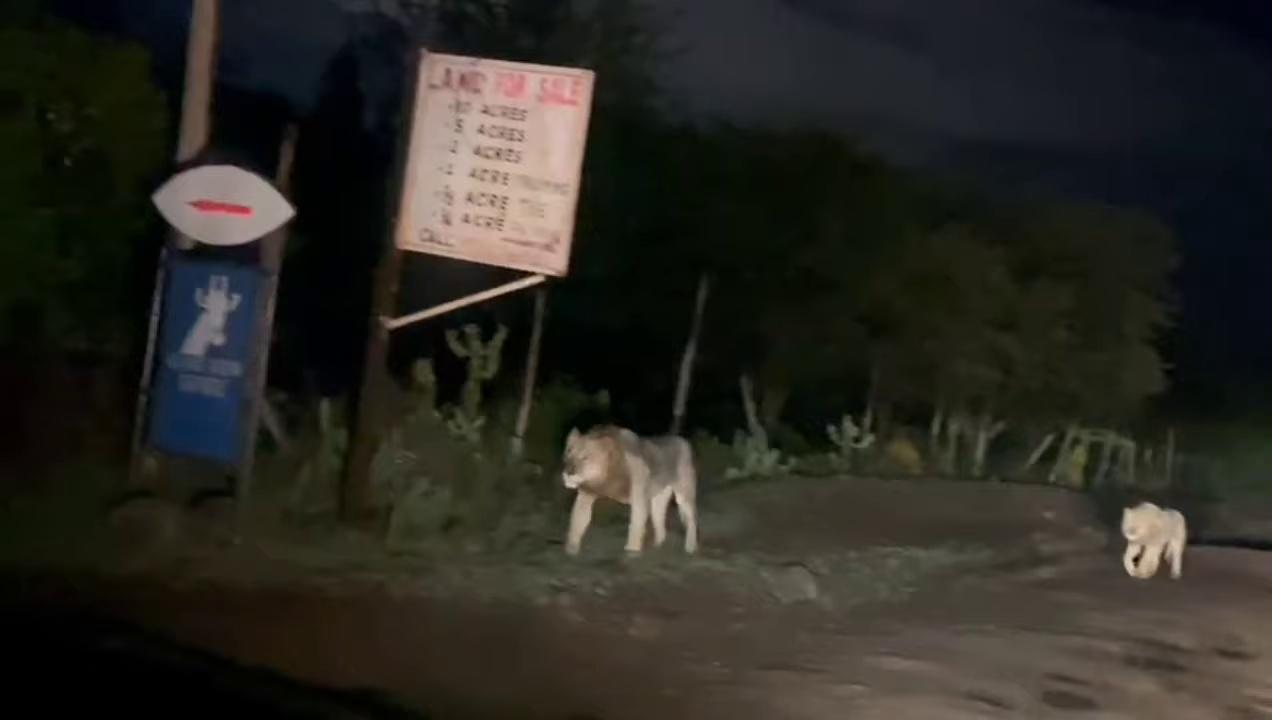lions: (546, 419, 708, 554), (1108, 495, 1199, 608)
